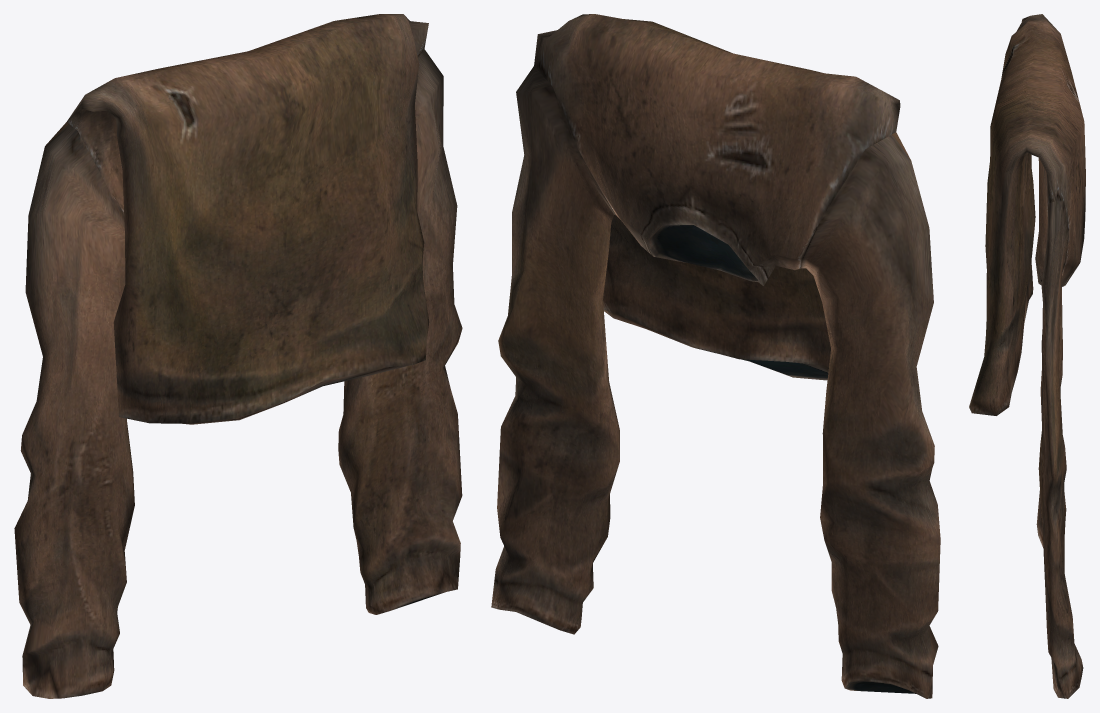
File: shirt_hanging_folded.dae
The picture shows the model from 3 angles, left to right: view 1: azimuth 30°, elevation 25°; view 2: azimuth 150°, elevation 25°; view 3: azimuth 270°, elevation 25°; orthographic projection. The views are drawn at different scales.
Visible parts, largest first — view 1: shirt_folded; view 2: shirt_folded; view 3: shirt_folded.
Part boxes in pixels (x1,y1,x2,y2): shirt_folded: [14, 14, 462, 698]; shirt_folded: [491, 14, 940, 698]; shirt_folded: [969, 14, 1085, 698].
Bounding box in the file's own units: 0.5044 × 0.6606 × 0.1302.
